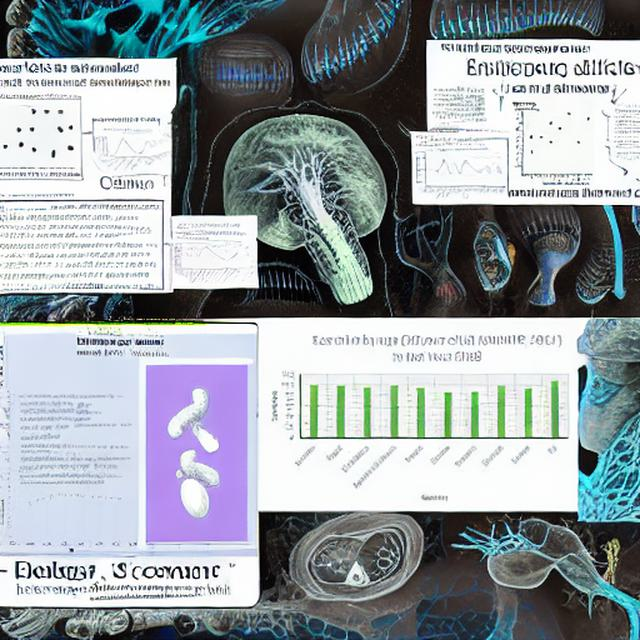Graph: (261, 327, 575, 508), (0, 480, 138, 550), (509, 96, 598, 188), (414, 147, 507, 202), (208, 49, 277, 97), (170, 241, 242, 282), (98, 128, 160, 171)
